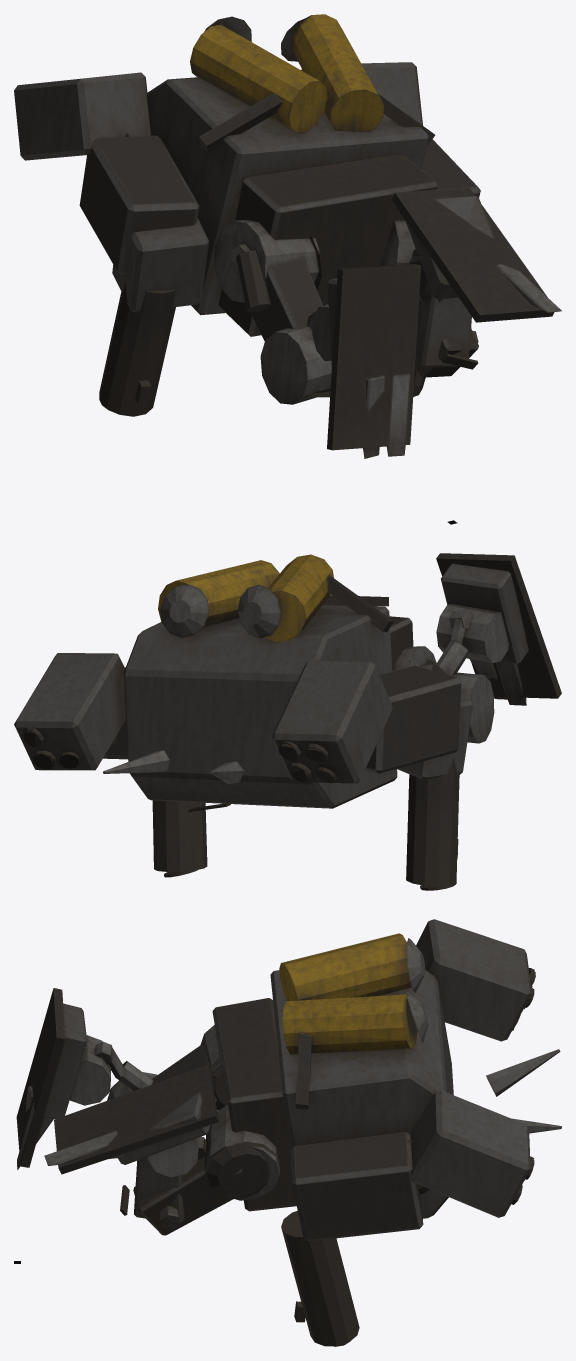
Rendered from chs_infernal_wreck.fbx.
3 views of the same model, one above another, from view 1: azimuth 30°, elevation 25°; view 2: azimuth 150°, elevation 25°; view 3: azimuth 270°, elevation 25° (orthographic). The views are drawn at different scales.
Parts seen in each view (by area): view 1: torso_bar, footL_bar, base_bar, thighL_bar, footR_bar, shinR_bar, thighR_bar, shinL_bar; view 2: torso_bar, footL_bar, shinL_bar, thighL_bar, base_bar; view 3: torso_bar, footR_bar, base_bar, thighR_bar, footL_bar, shinR_bar, shinL_bar, thighL_bar.
Part boxes in pixels (x1=…): torso_bar: x1=14, y1=14, x2=480, y2=416; footL_bar: x1=327, y1=264, x2=421, y2=458; base_bar: x1=218, y1=154, x2=437, y2=336; thighL_bar: x1=214, y1=220, x2=331, y2=404; footR_bar: x1=391, y1=187, x2=561, y2=322; shinR_bar: x1=409, y1=249, x2=478, y2=369; thighR_bar: x1=379, y1=220, x2=478, y2=377; shinL_bar: x1=306, y1=304, x2=331, y2=397; torso_bar: x1=14, y1=554, x2=472, y2=890; footL_bar: x1=436, y1=553, x2=561, y2=705; shinL_bar: x1=436, y1=604, x2=509, y2=675; thighL_bar: x1=394, y1=646, x2=494, y2=743; base_bar: x1=389, y1=616, x2=413, y2=671; torso_bar: x1=270, y1=919, x2=561, y2=1346; footR_bar: x1=44, y1=1065, x2=218, y2=1174; base_bar: x1=212, y1=998, x2=296, y2=1211; thighR_bar: x1=133, y1=1105, x2=280, y2=1235; footL_bar: x1=16, y1=988, x2=87, y2=1169; shinR_bar: x1=120, y1=1136, x2=206, y2=1223; shinL_bar: x1=70, y1=1035, x2=153, y2=1105; thighL_bar: x1=107, y1=1025, x2=227, y2=1110.
Bounding box in the file's own units: 1125 × 1086 × 1574.
Materials: 2 (2 with a texture image).
